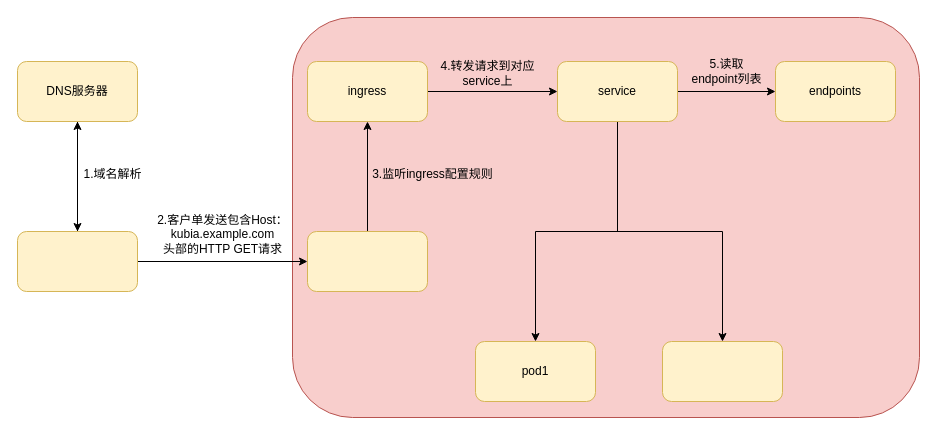
Some shapes in this 937 by 435 pixel diagram are drawn without their labels. The shapes that lost their labels are listed below. From the top down, each one's centre as x and y in pixels, then its label:
At point 77,261: "Clinent".
At point 367,261: "ingress控制器".
At point 722,371: "pod2".
